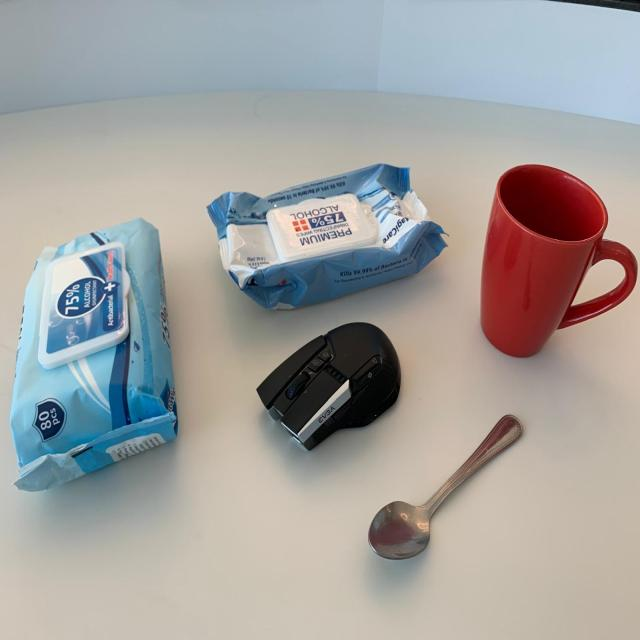Cup: (470, 142, 638, 382)
Mouse: (252, 315, 418, 456)
Spoon: (353, 410, 533, 575)
